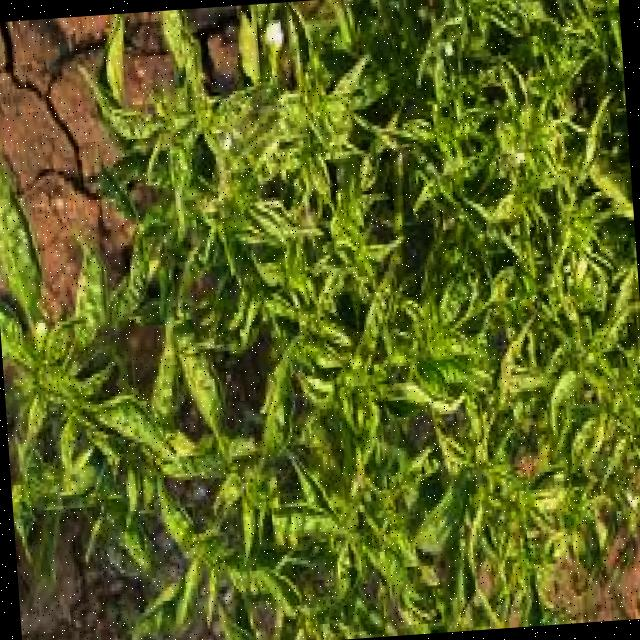leaf curl: (319, 38, 640, 612), (0, 131, 315, 583)
